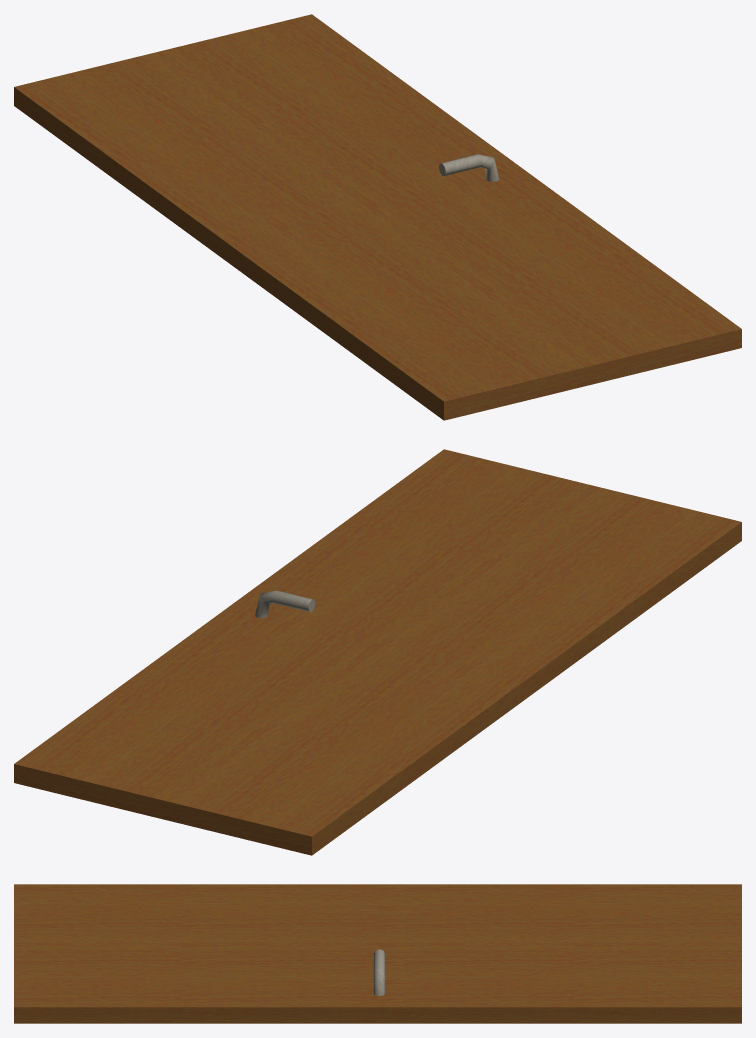
The model's file is door.FBX.
3 renders of one model, top to bottom at view 1: azimuth 30°, elevation 25°; view 2: azimuth 150°, elevation 25°; view 3: azimuth 270°, elevation 25°, orthographic. The views are drawn at different scales.
Parts seen in each view (by area): view 1: Box01; view 2: Box01; view 3: Box01.
Part boxes in pixels (x1,y1,x2,y2): Box01: (14,14,741,420); Box01: (14,449,741,855); Box01: (14,884,741,1023).
Bounding box in the file's own units: 10 × 1.51 × 25.
Materials: 1 (1 with a texture image).
